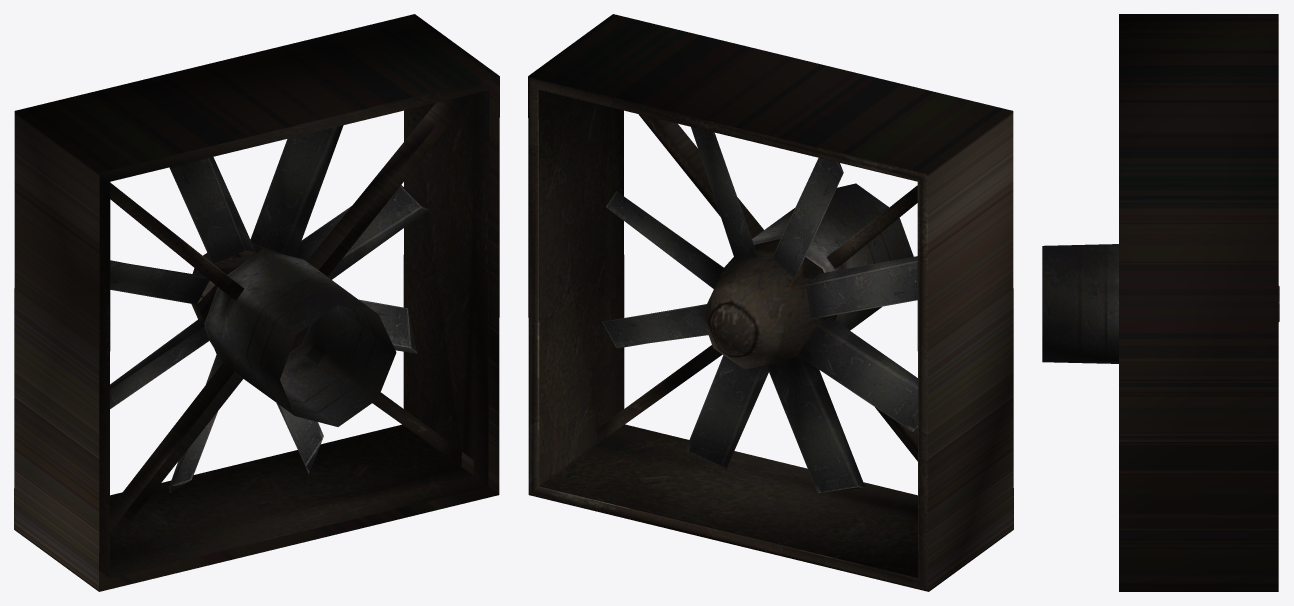
File: ventilator.glb
The picture shows the model from 3 angles, left to right: view 1: azimuth 30°, elevation 25°; view 2: azimuth 150°, elevation 25°; view 3: azimuth 270°, elevation 25°; orthographic projection. The views are drawn at different scales.
Parts seen in each view (by area): view 1: Tube01, __lithtech_lh_to_gltf_rh__; view 2: Tube01, __lithtech_lh_to_gltf_rh__; view 3: Tube01.
Part boxes in pixels (box(x1,y1,x2,y2)): Tube01: box(14, 14, 499, 591); __lithtech_lh_to_gltf_rh__: box(110, 125, 428, 492); Tube01: box(528, 14, 1013, 591); __lithtech_lh_to_gltf_rh__: box(602, 127, 917, 492); Tube01: box(1042, 14, 1278, 591).
Size of the model in its own units: 202 by 202 by 110.
1 material, 1 textured.
